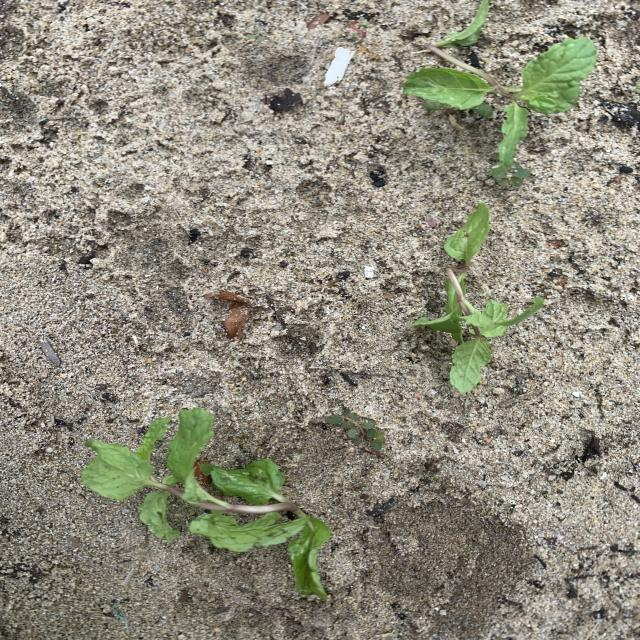crop: (82, 408, 330, 600), (403, 0, 596, 185), (412, 203, 544, 394)
weed: (323, 409, 387, 459), (204, 291, 254, 341), (40, 340, 63, 374), (356, 44, 394, 63), (266, 296, 287, 329)
